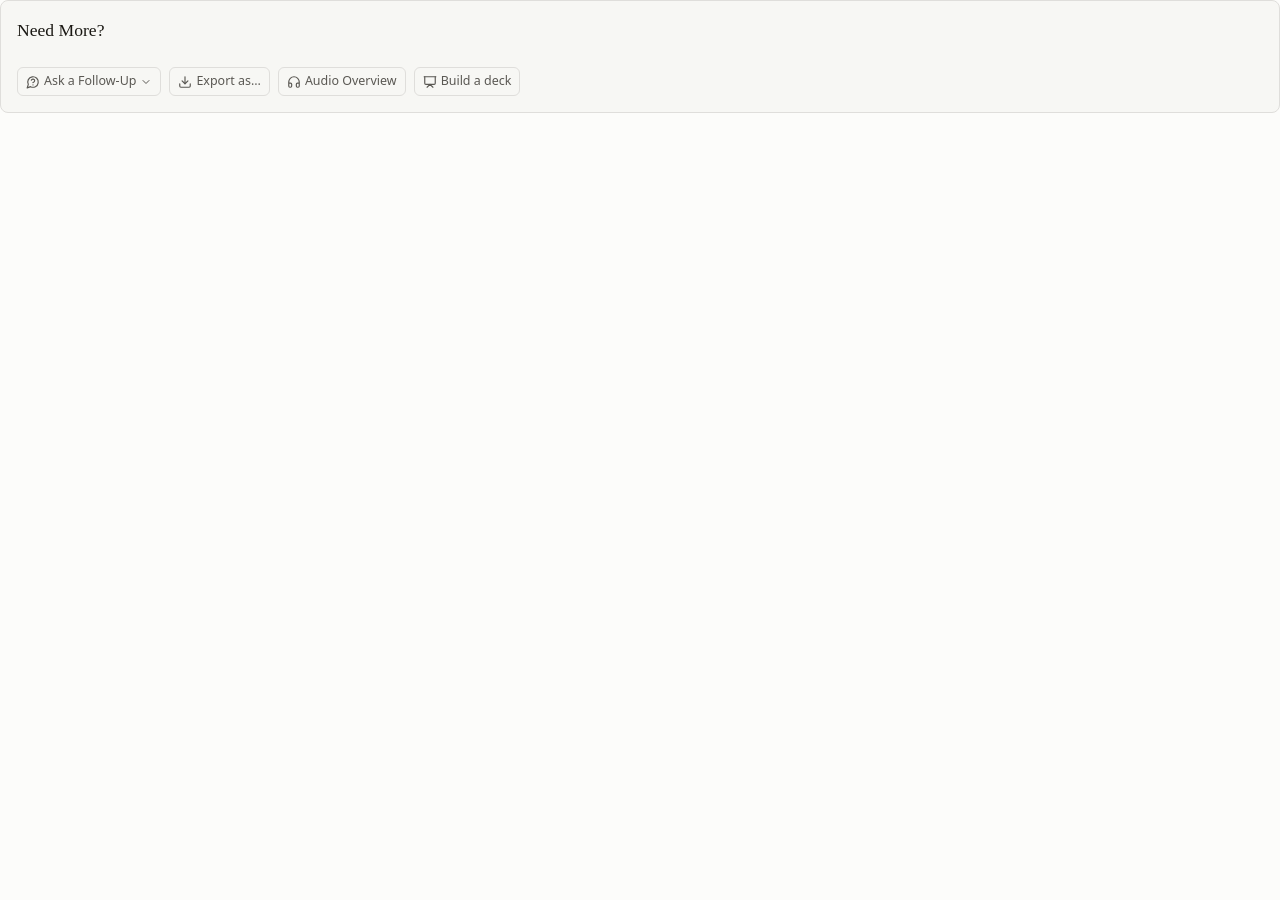
Test: AuxDialogFocus › C1: export selector Skip opens the real Export dialog with autofocus, no export yet
This screenshot has width=1280, height=900.
Click the button "Export as…" at (220, 82), box [169, 67, 270, 96]
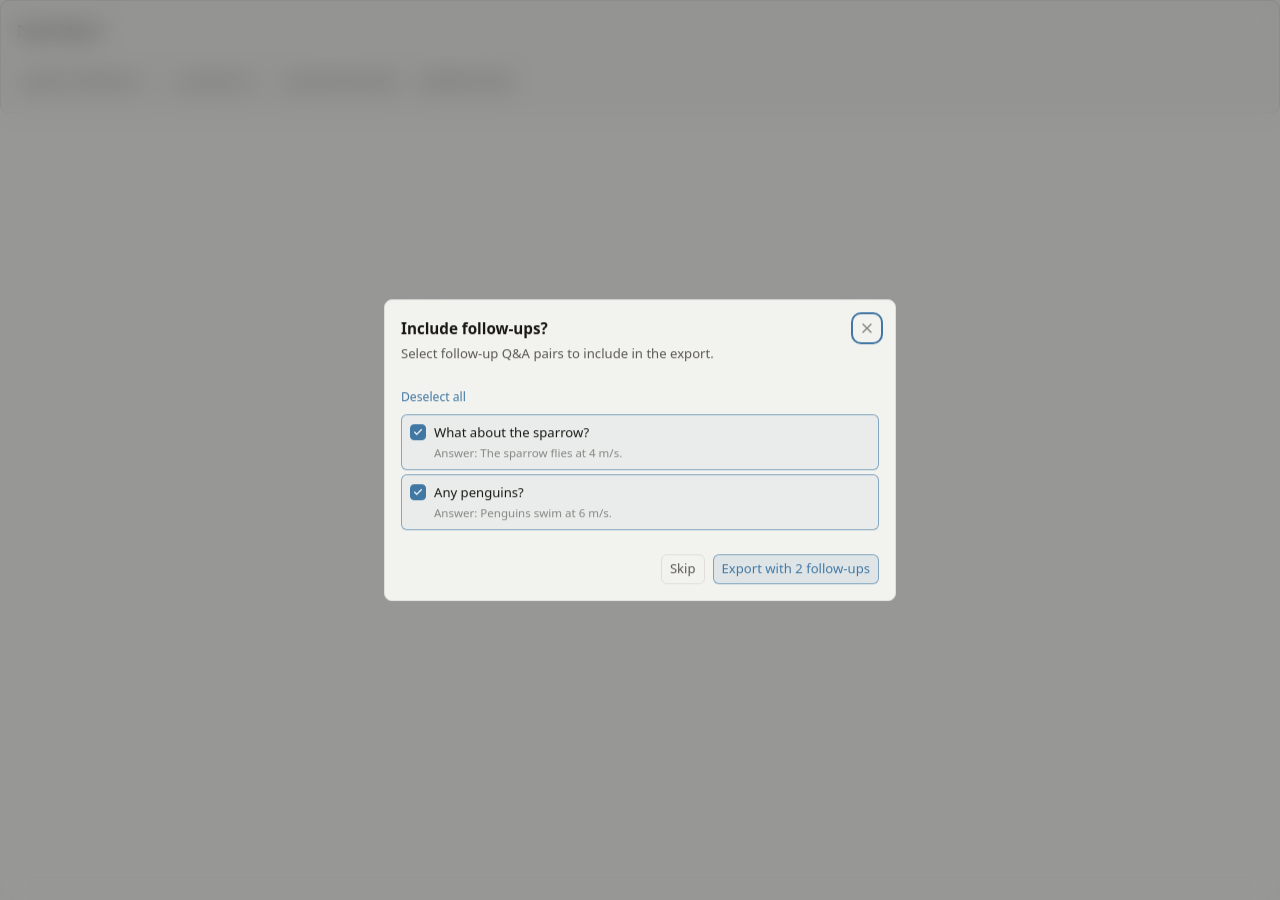
Click the button "Skip" at (683, 569), box [661, 554, 705, 584]
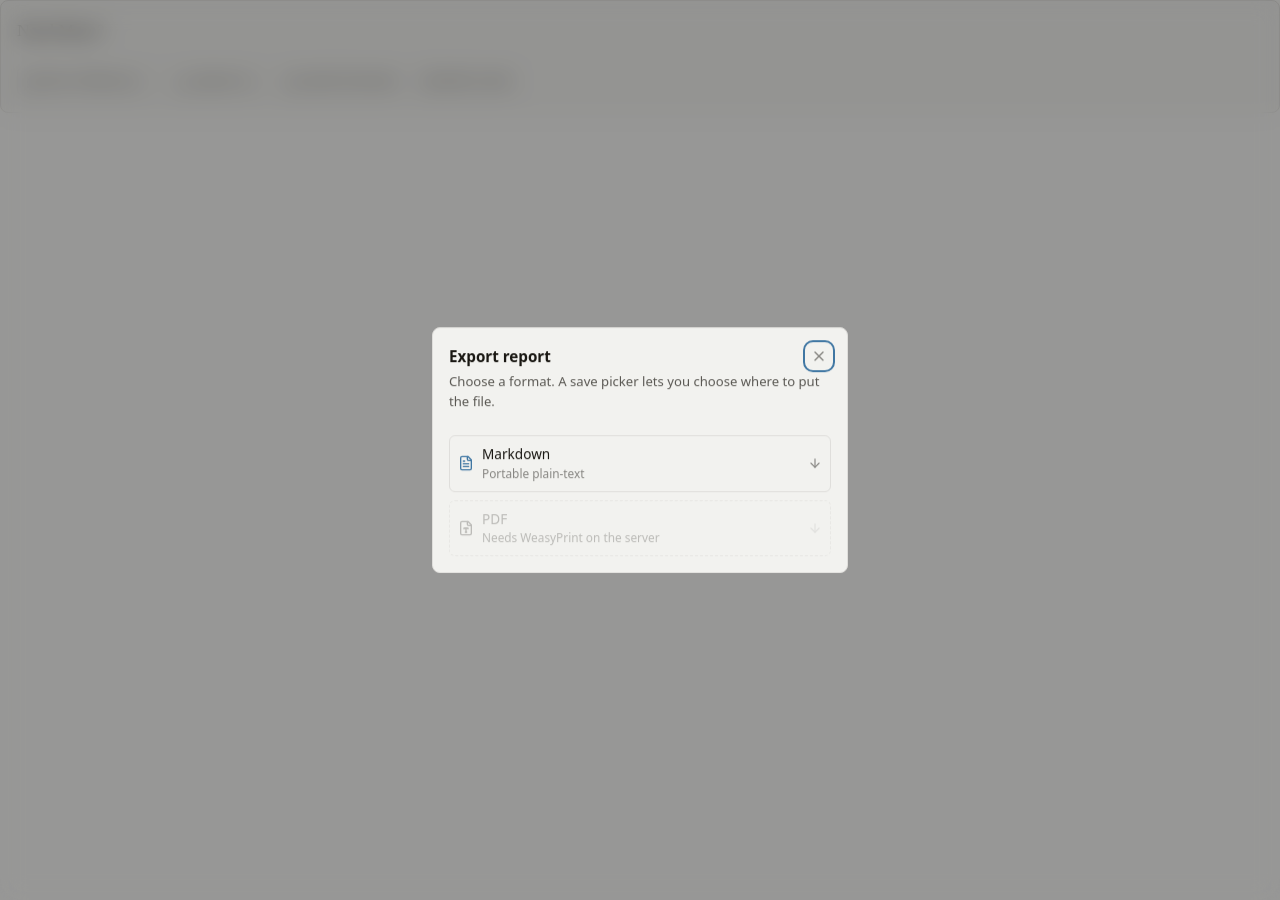
Check: the heading "Include follow-ups?" is gone
